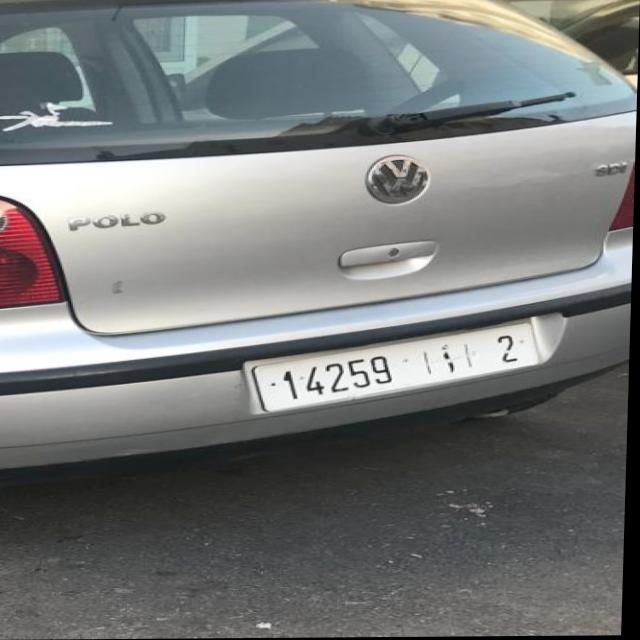License-Plate: (251, 320, 552, 413)
